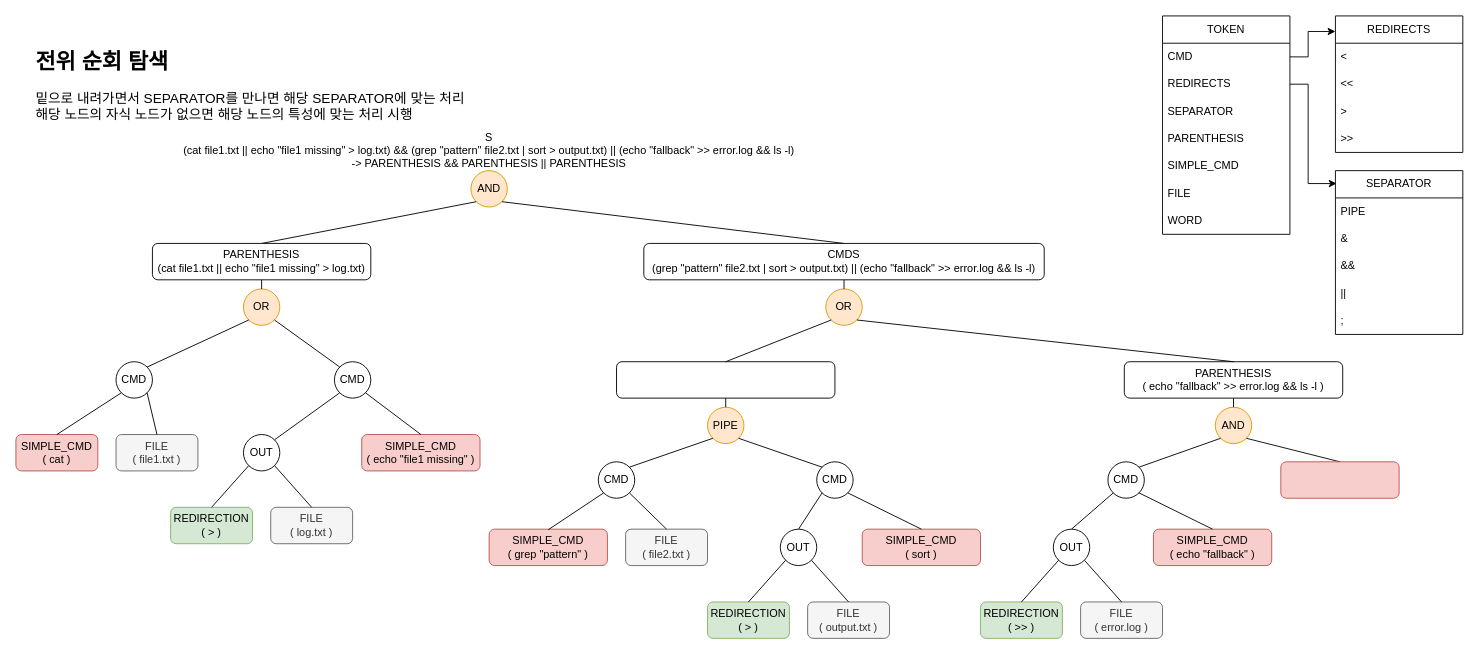
The diagram is 1479 pixels wide and 654 high, and some of its shapes have lost their labels. The shapes that lost their labels are listed below. From the top down, each one's centre as x and y in pixels, then its label:
point 725,379: PARENTHESIS (grep "pattern" file2.txt | sort > output.txt)
point 1339,479: SIMPLE_CMD ( ls -l )
